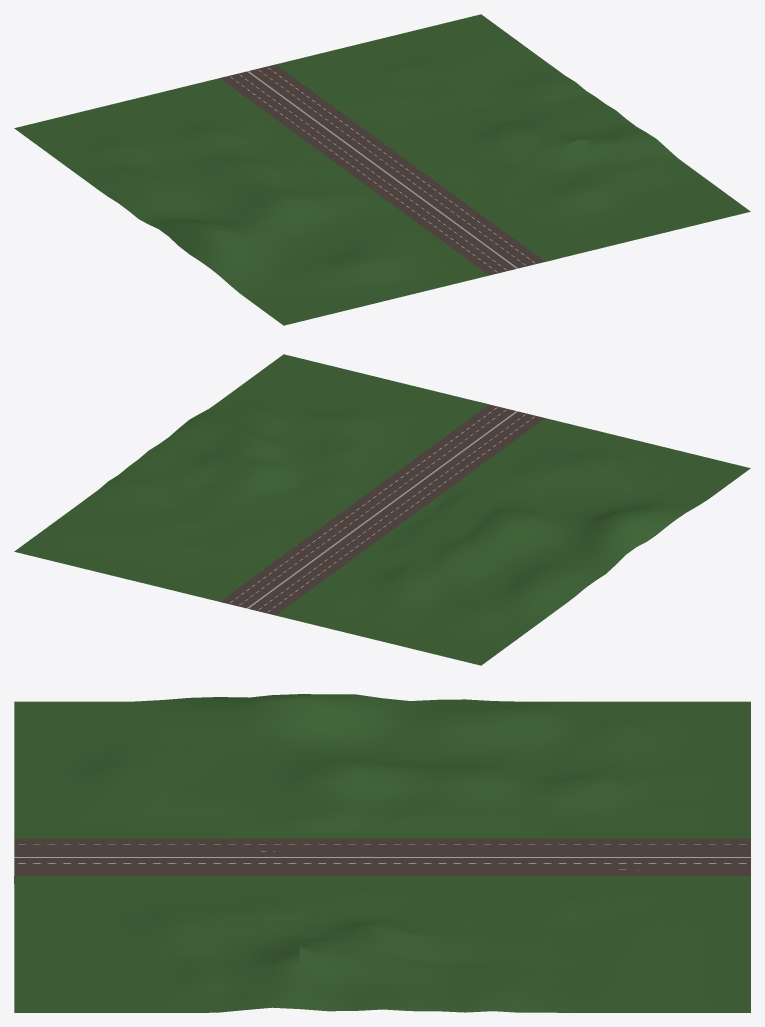
File: TileHighway5_1.fbx
The picture shows the model from 3 angles, top to bottom: view 1: azimuth 30°, elevation 25°; view 2: azimuth 150°, elevation 25°; view 3: azimuth 270°, elevation 25°; orthographic projection. The views are drawn at different scales.
Parts seen in each view (by area): view 1: Plane.013, Road; view 2: Plane.013, Road; view 3: Plane.013, Road.
Boxes of the visible parts, left/top/right/bottom form: Plane.013: left=14, top=14, right=750, bottom=325; Road: left=220, top=64, right=544, bottom=275; Plane.013: left=14, top=354, right=750, bottom=665; Road: left=220, top=404, right=544, bottom=615; Plane.013: left=14, top=694, right=750, bottom=1012; Road: left=14, top=838, right=750, bottom=875.
Bounding box in the file's own units: 20015 × 682 × 20011.
